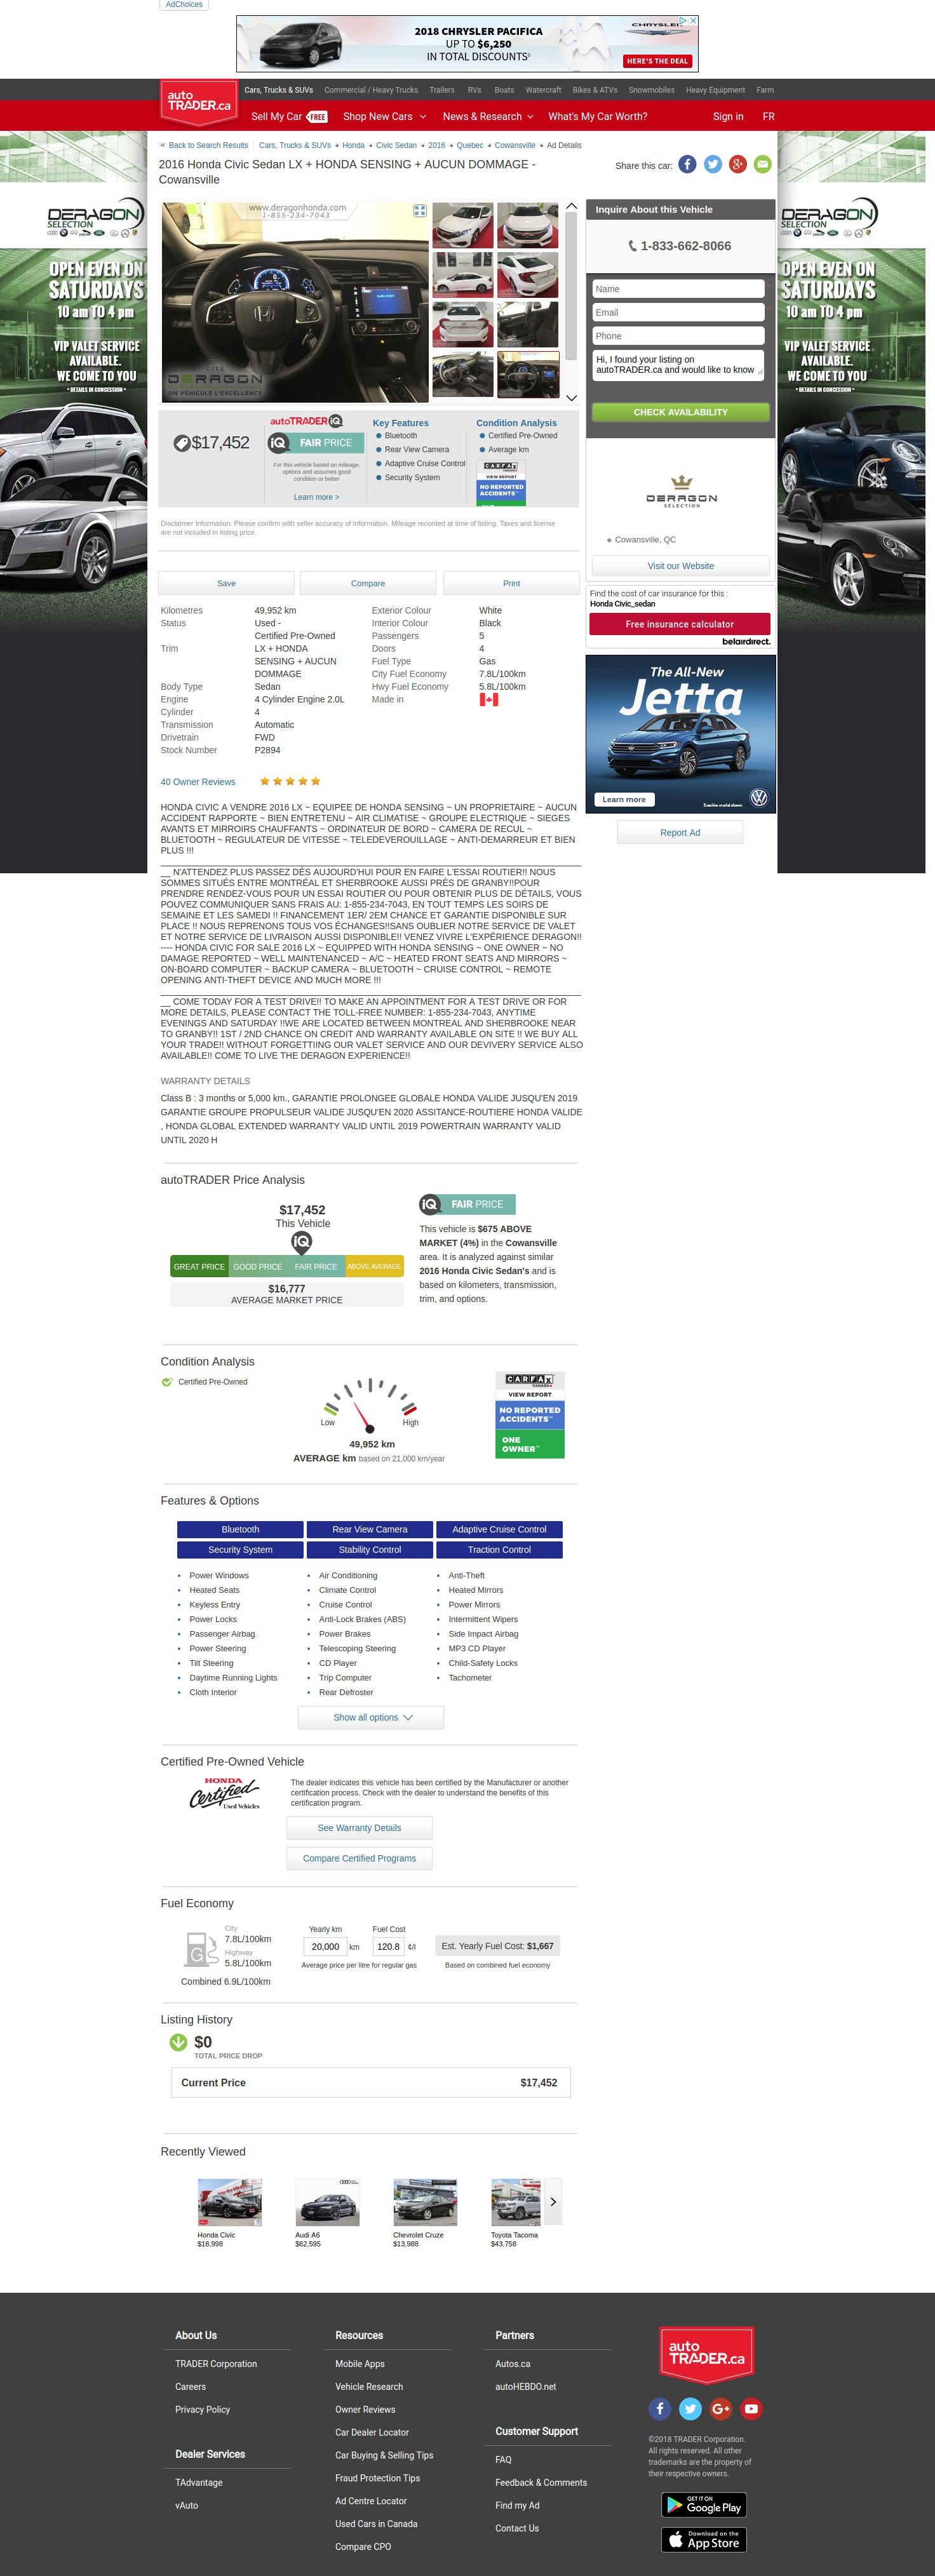car: (565, 394, 578, 404)
